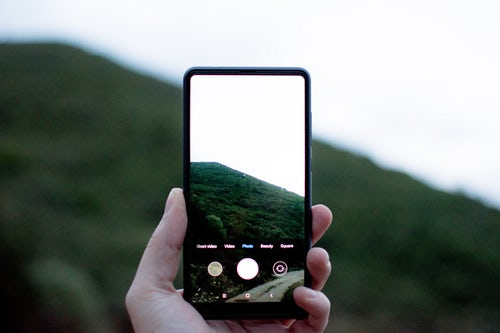phone: (180, 63, 316, 322)
